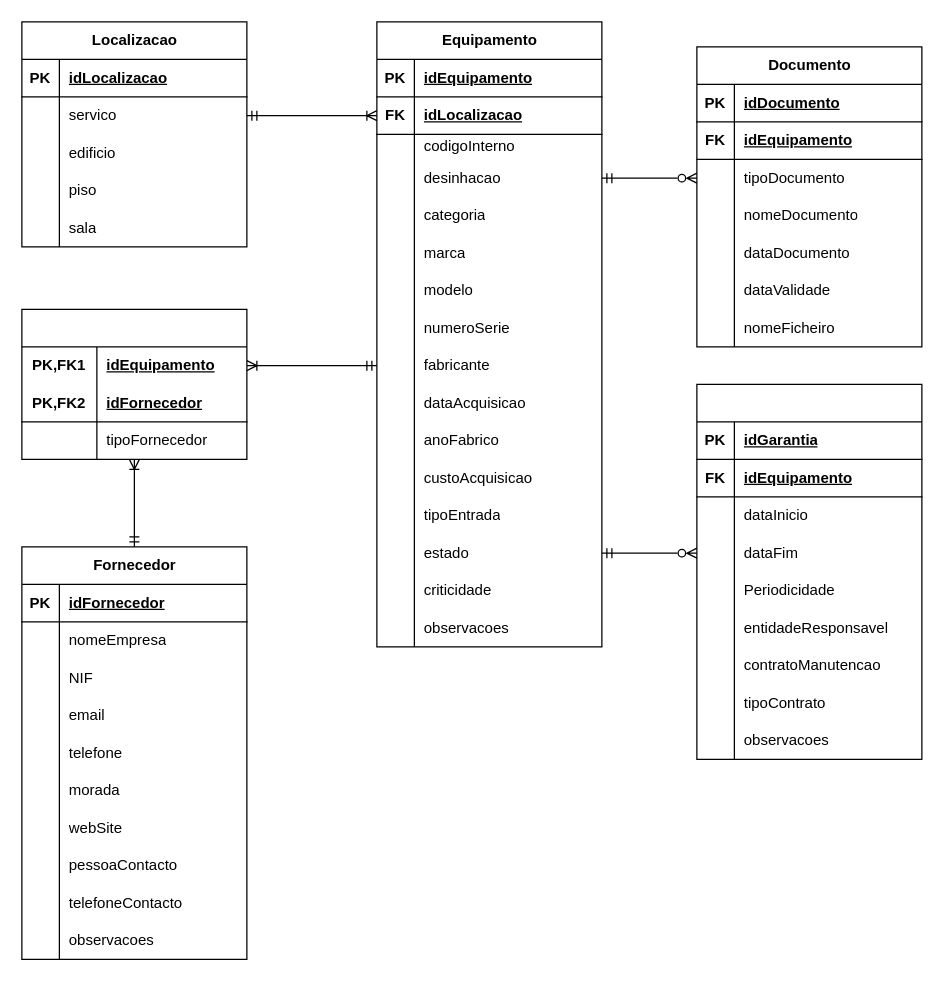
Some shapes in this 944 by 981 pixel diagram are drawn without their labels. Here are the shapes that lost their labels. From the top down, the box of each, then its label:
(21, 308, 247, 459): EquipamentoFornecedor
(696, 383, 922, 759): Garantia Contrato
